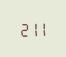one: (37, 19, 45, 36), (28, 20, 36, 36)
two: (18, 20, 26, 37)
